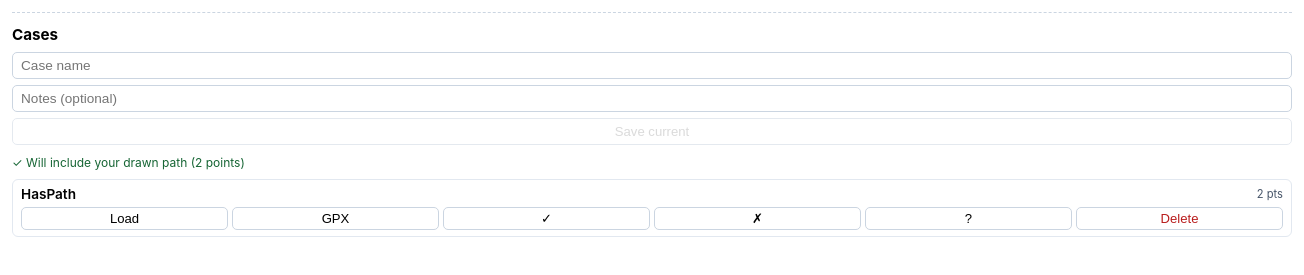
Test: surfaces an error and skips the download when route calculation fails
Check: the text "HasPath" is shown, box [21,186,76,202]
Click the button "GPX". click: (336,218)
box: [232,207,439,230]
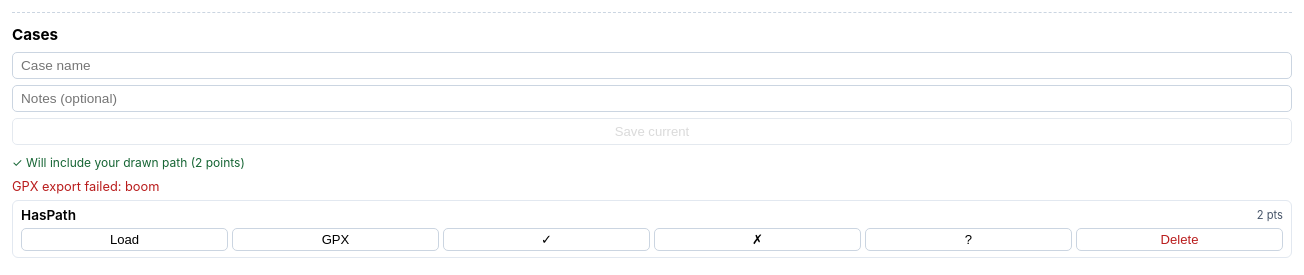
Check: the text "GPX export failed: boom" is shown, box [12,179,159,194]
